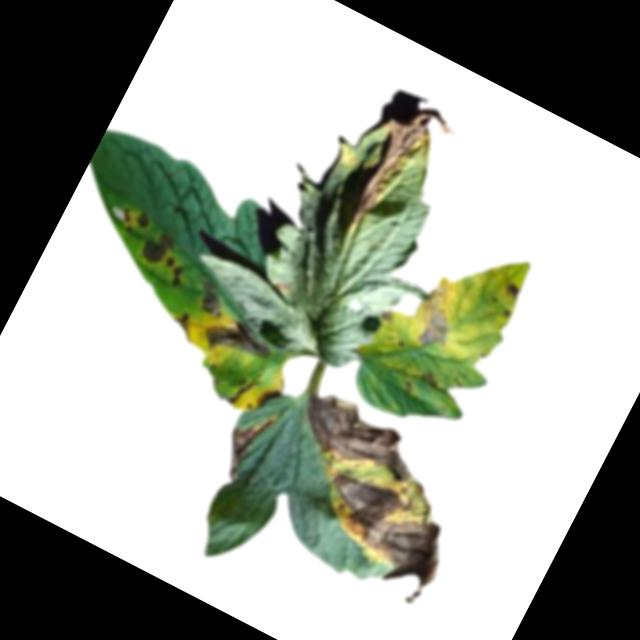Early_blight: (281, 456, 463, 612), (285, 380, 455, 509), (337, 92, 461, 250), (211, 405, 281, 489), (199, 306, 279, 377), (403, 285, 465, 359), (135, 226, 177, 271), (187, 277, 228, 320), (115, 203, 153, 238), (167, 305, 201, 340), (157, 255, 191, 290), (252, 382, 283, 414), (414, 365, 444, 392), (499, 280, 524, 305), (400, 377, 421, 398)
